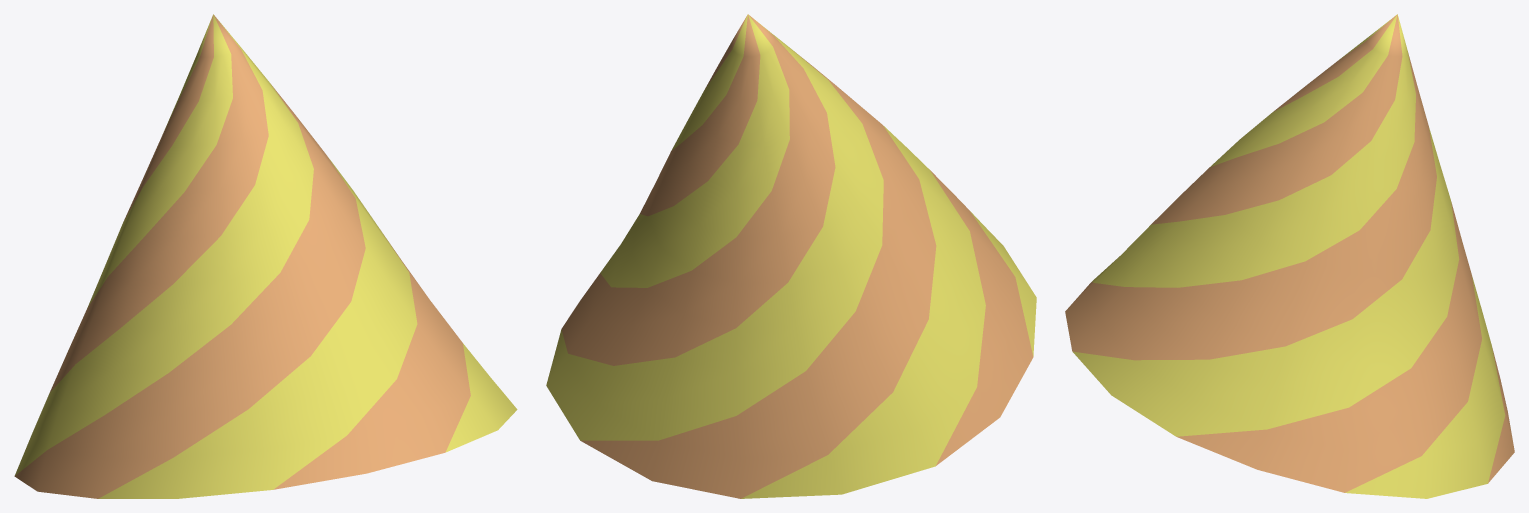
The model's file is hat_y_cone.fbx.
3 renders of one model, left to right at view 1: azimuth 30°, elevation 25°; view 2: azimuth 150°, elevation 25°; view 3: azimuth 270°, elevation 25°, orthographic. The views are drawn at different scales.
Visible parts, largest first — view 1: hat_y_cone; view 2: hat_y_cone; view 3: hat_y_cone.
Part boxes in pixels (left/top/right/bottom): hat_y_cone: left=14, top=14, right=517, bottom=498; hat_y_cone: left=546, top=14, right=1036, bottom=498; hat_y_cone: left=1065, top=14, right=1514, bottom=498.
Bounding box in the file's own units: 0.6518 × 0.633 × 0.6126.
